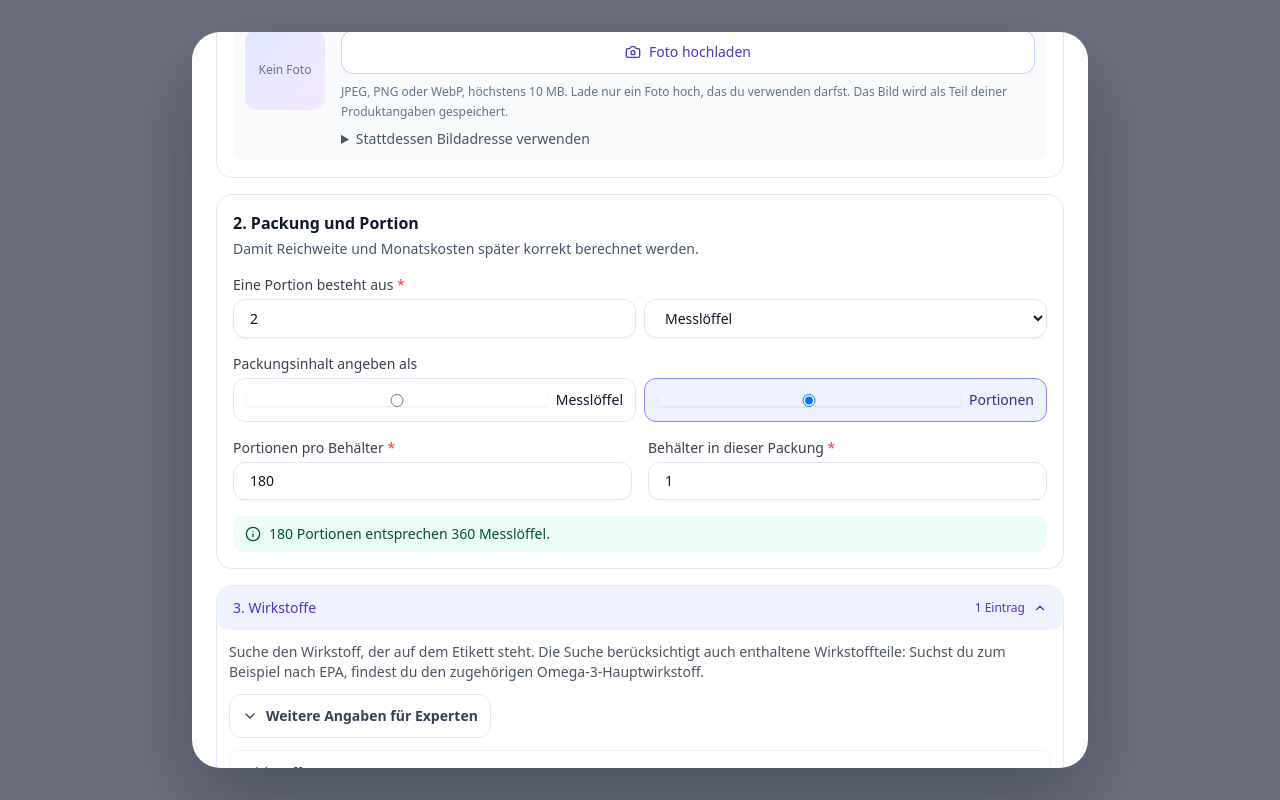
Test case: UserProductForm sub-ingredient roundtrip › zeigt die bidirektionale Packungsrechnung auch für Messlöffel
(page scrolled)
Click the radio button labelled "Messlöffel" at (397, 400), box [246,394,548,406]
(page scrolled)
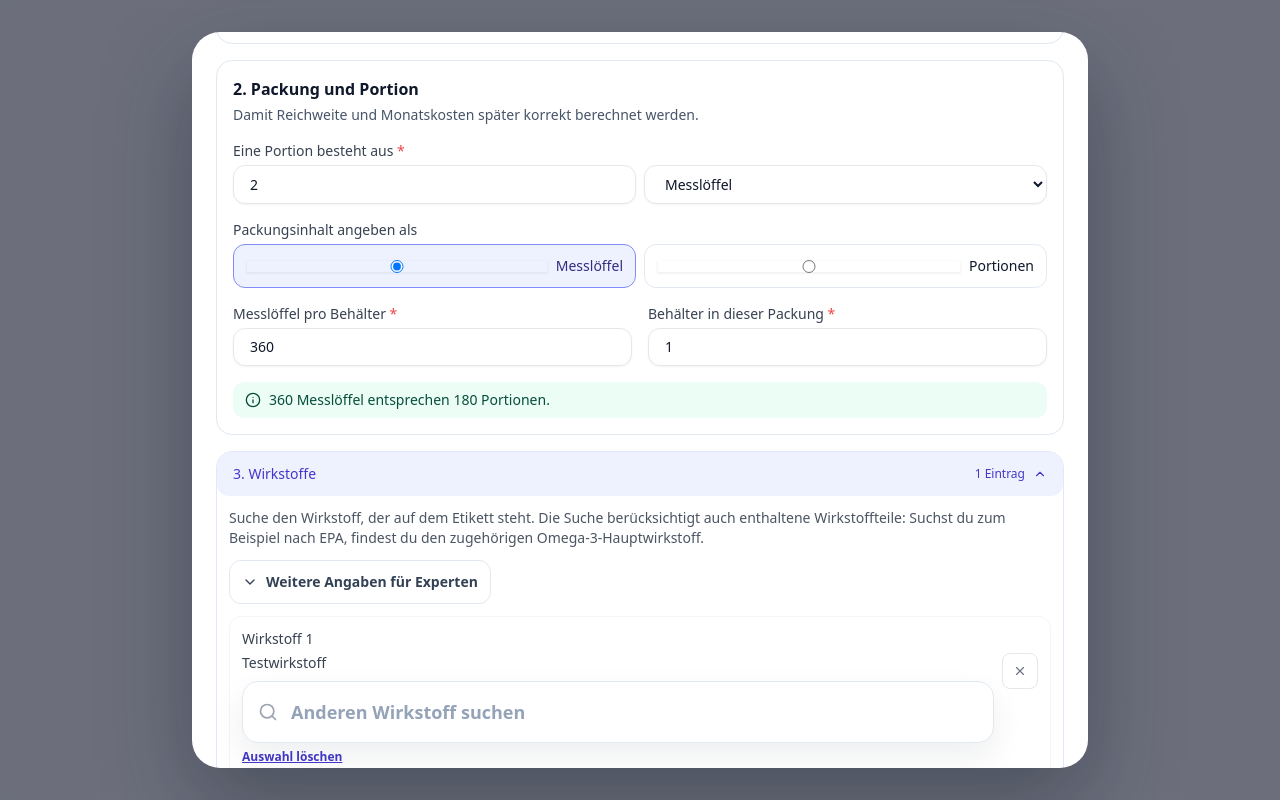
Result: the number field showing "360" is shown at [233,328,632,366]
